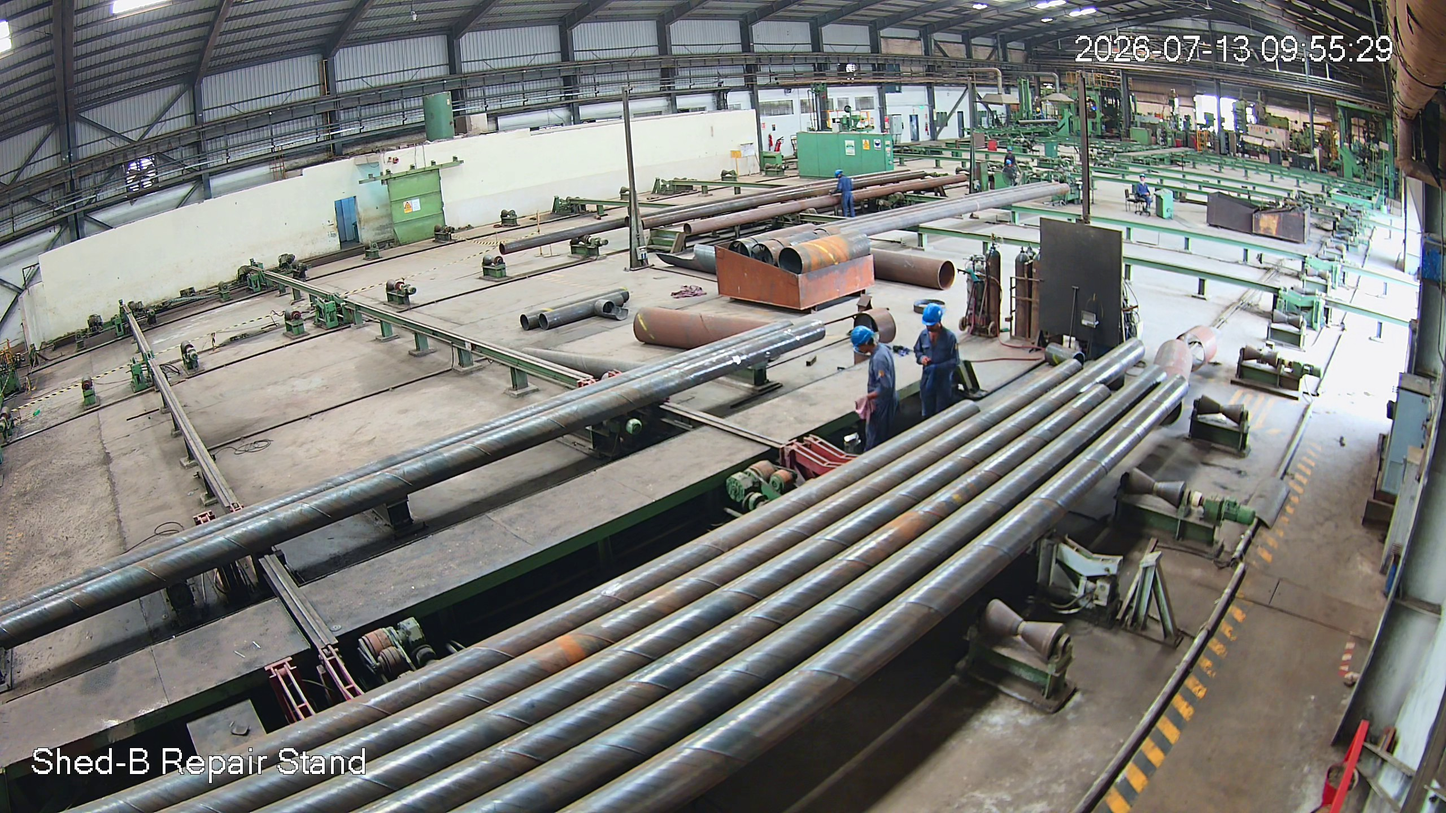Helmet: (914, 300, 955, 337), (848, 322, 879, 358)
Person: (846, 325, 900, 452), (908, 302, 965, 420)
